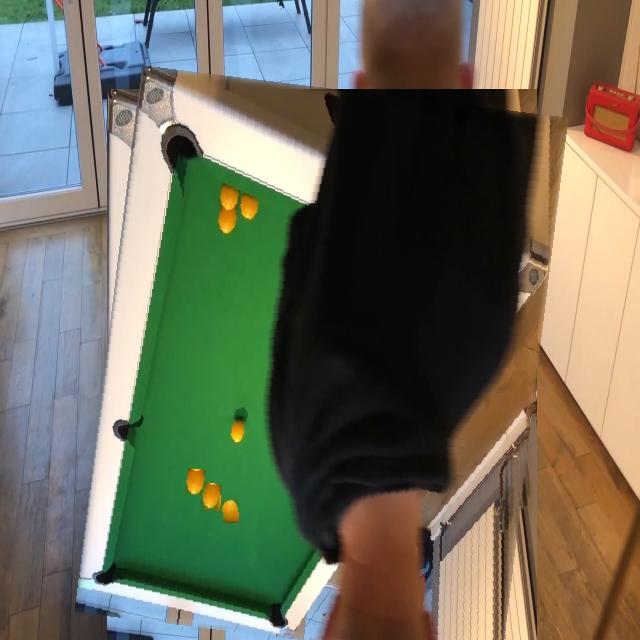Ball: (201, 482, 221, 510), (201, 506, 220, 531), (223, 500, 239, 524), (240, 277, 254, 301)
Billiard table: (91, 77, 552, 640)
